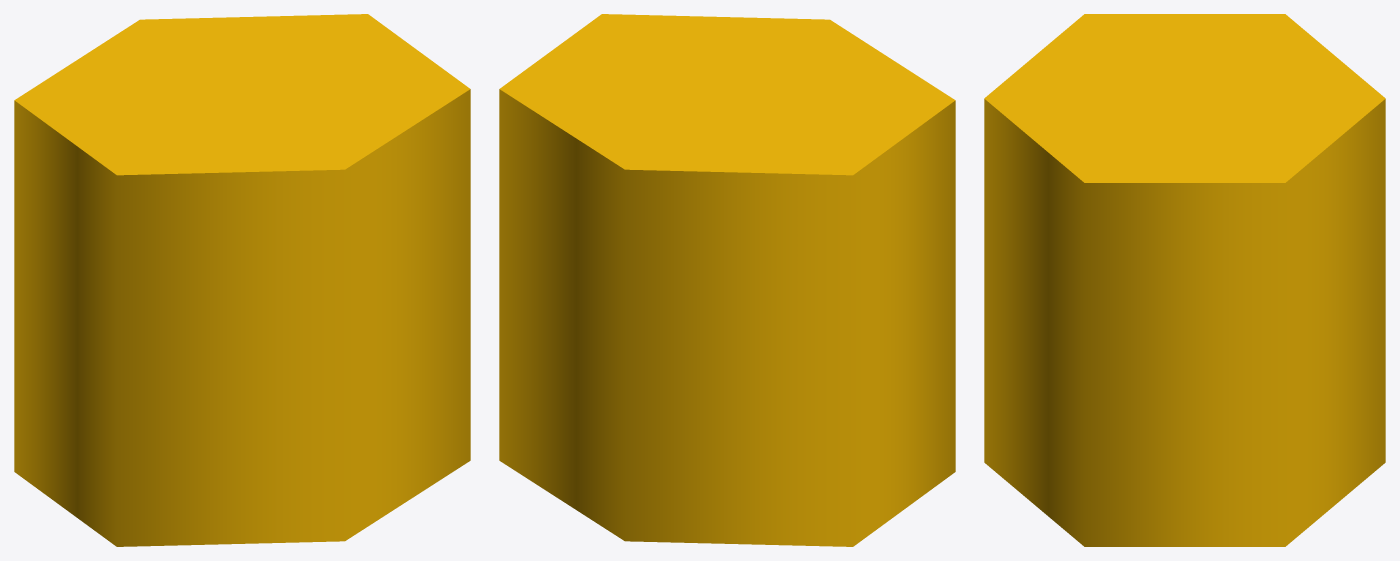
File: WallBlock.fbx
3 renders of one model, left to right at view 1: azimuth 30°, elevation 25°; view 2: azimuth 150°, elevation 25°; view 3: azimuth 270°, elevation 25°, orthographic. The views are drawn at different scales.
Visible parts, largest first — view 1: WallBlock; view 2: WallBlock; view 3: WallBlock.
Boxes of the visible parts, box(x1,y1,x2,y2) form: WallBlock: box(14, 14, 470, 546); WallBlock: box(499, 14, 955, 546); WallBlock: box(984, 14, 1385, 546).
Bounding box in the file's own units: 199 × 200 × 200.
